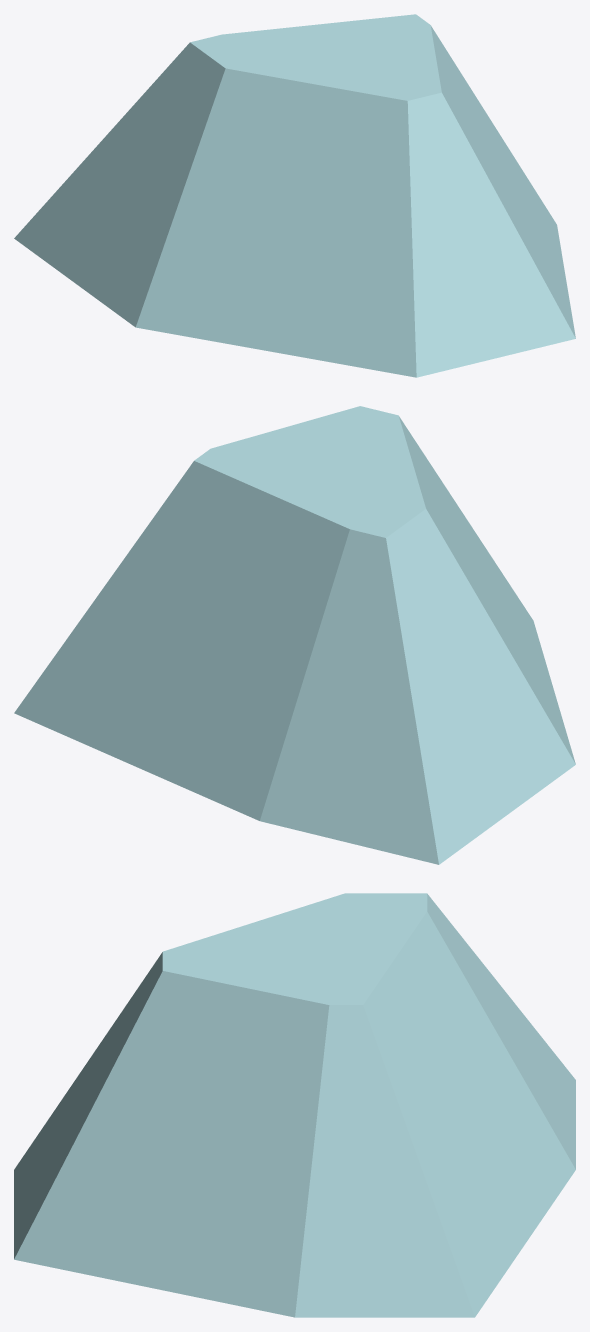
File: stone_smallB.glb
3 renders of one model, top to bottom at view 1: azimuth 30°, elevation 25°; view 2: azimuth 150°, elevation 25°; view 3: azimuth 270°, elevation 25°, orthographic. The views are drawn at different scales.
Parts seen in each view (by area): view 1: stone_smallB; view 2: stone_smallB; view 3: stone_smallB.
Boxes of the visible parts, x1,y1,x2,y2 form: stone_smallB: (14,14,575,377); stone_smallB: (14,406,575,864); stone_smallB: (14,893,575,1317).
Size of the model in its own units: 0.3608 by 0.1768 by 0.3608.
